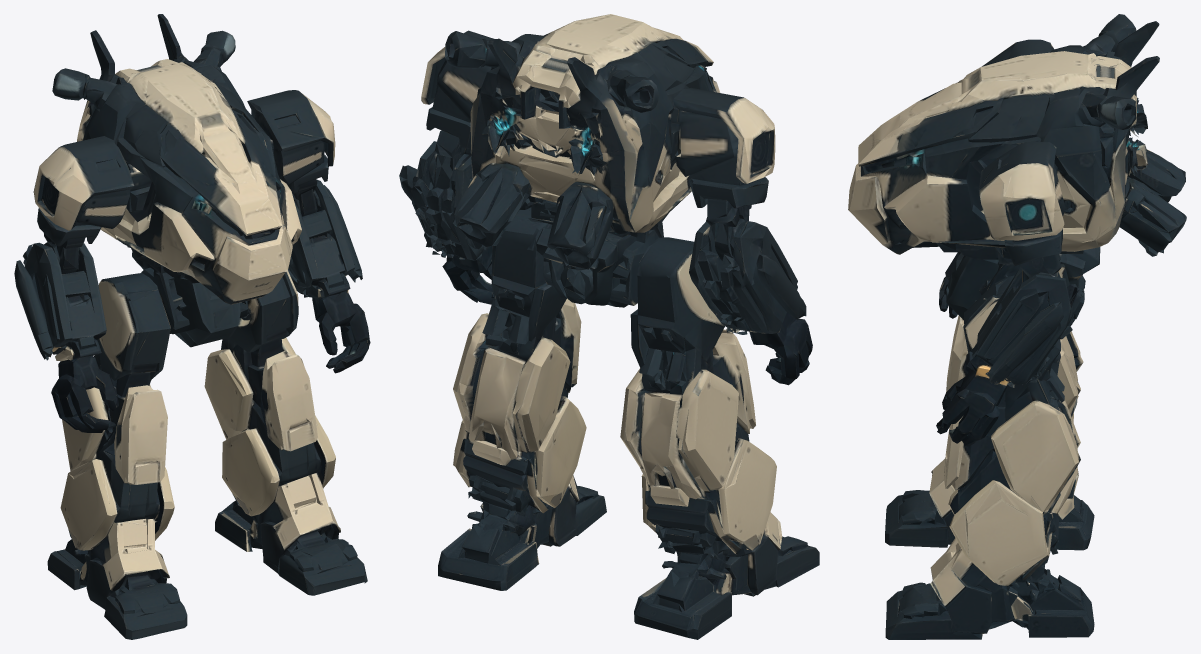
The model's file is warden.glb.
The picture shows the model from 3 angles, left to right: view 1: azimuth 30°, elevation 25°; view 2: azimuth 150°, elevation 25°; view 3: azimuth 270°, elevation 25°; orthographic projection. The views are drawn at different scales.
Bounding box in the file's own units: 1.28 × 1.9 × 1.08.
1 material, 1 textured.
